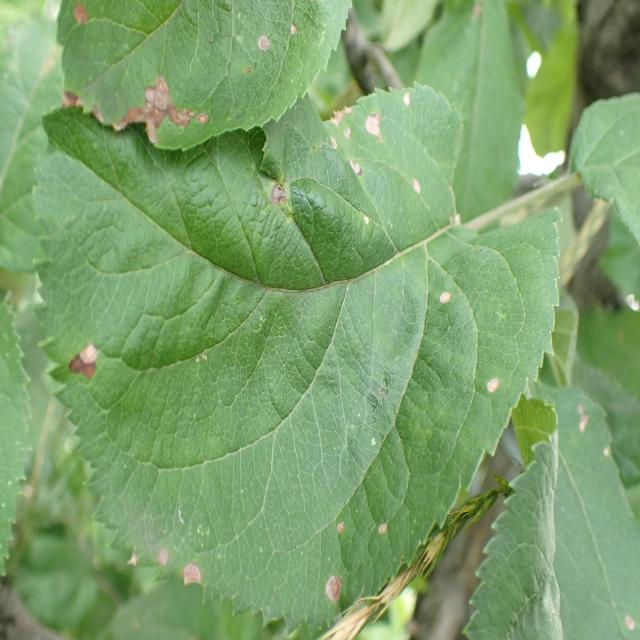Black Rot: (99, 78, 218, 171), (41, 336, 110, 388), (99, 534, 152, 588), (326, 96, 362, 159), (359, 89, 389, 157), (253, 27, 281, 76), (320, 567, 346, 618), (178, 557, 210, 597), (344, 147, 366, 199), (370, 512, 399, 551), (478, 373, 511, 403), (71, 0, 95, 41), (434, 283, 455, 326), (318, 512, 350, 540), (406, 171, 426, 204), (156, 542, 174, 578), (287, 16, 300, 57), (400, 86, 410, 125)
